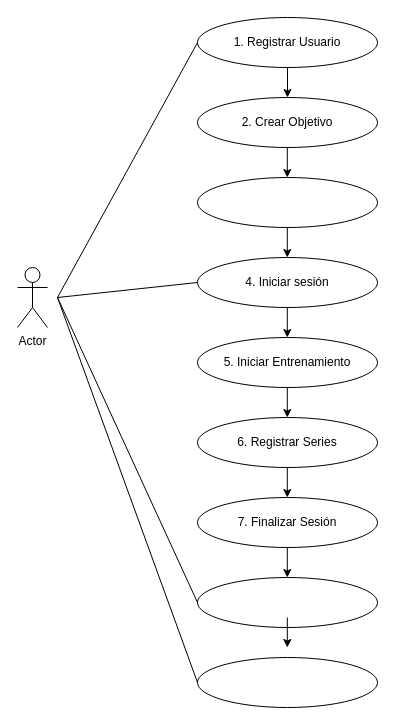
The diagram is 395 pixels wide and 725 high, and some of its shapes have lost their labels. Each missing label, with the box of its shape:
3. Generar Rutina: (196, 176, 378, 228)
8. Actualizar Objetivos: (196, 576, 378, 628)
9. Ver Estadísticas: (196, 656, 378, 708)
